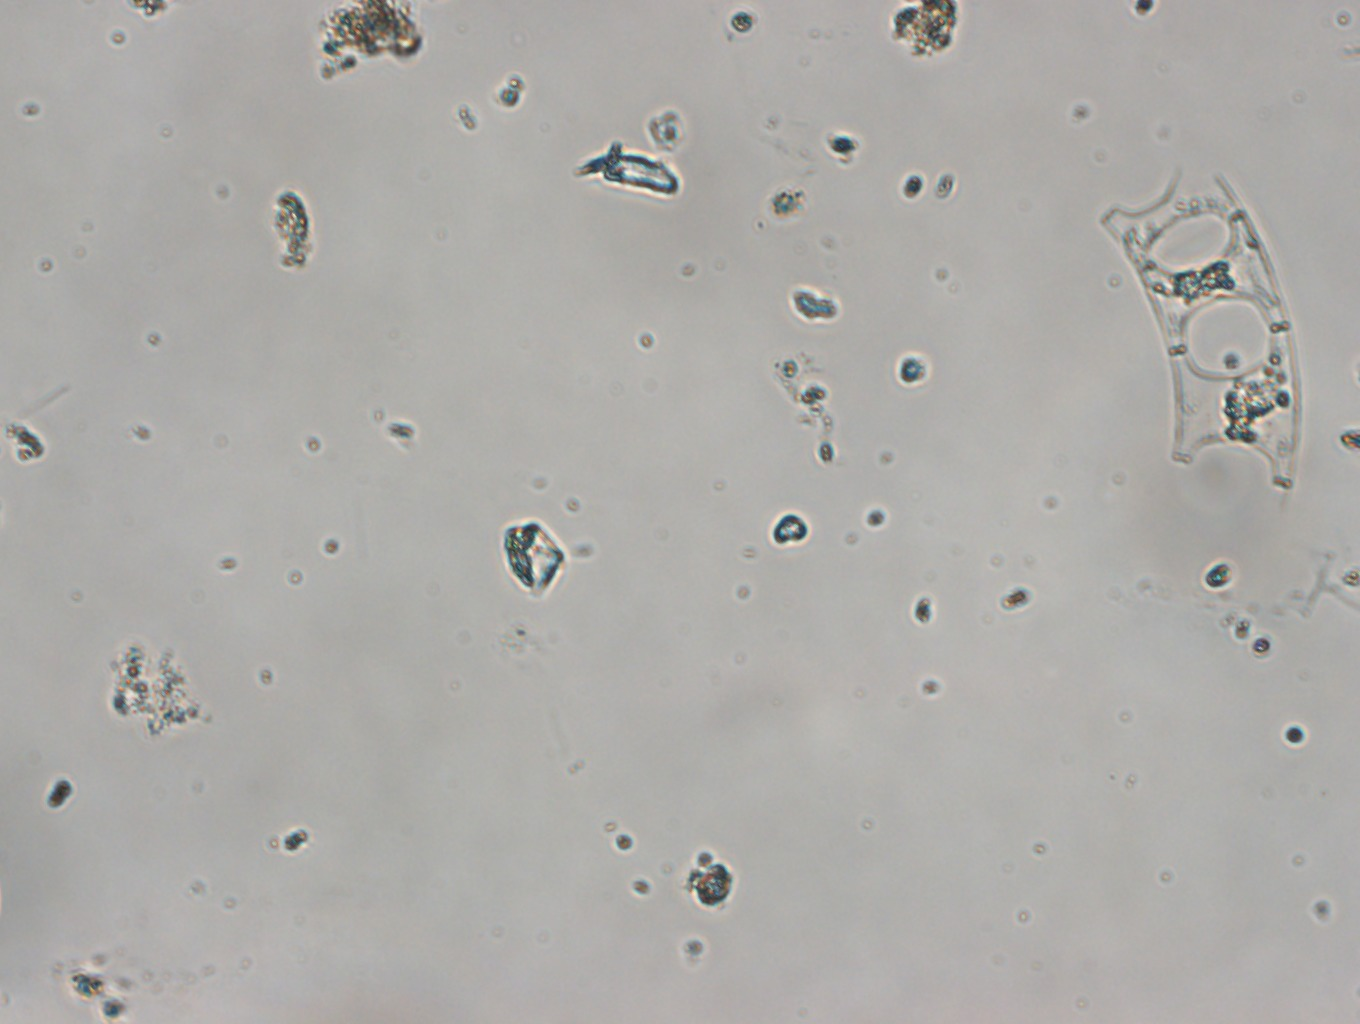eucampia: (1102, 155, 1312, 497)
